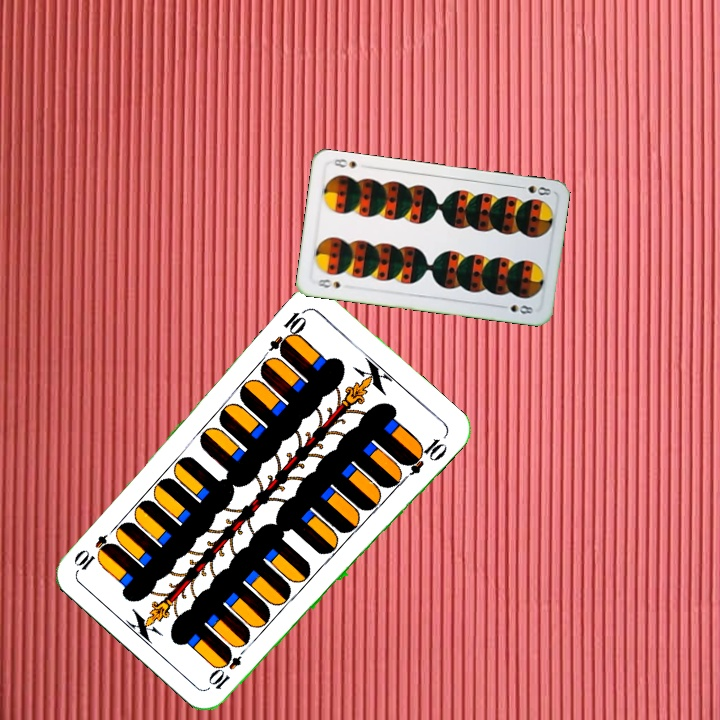E10: (205, 640, 252, 692), (265, 305, 310, 358)
S8: (513, 182, 554, 198), (310, 275, 343, 291)
